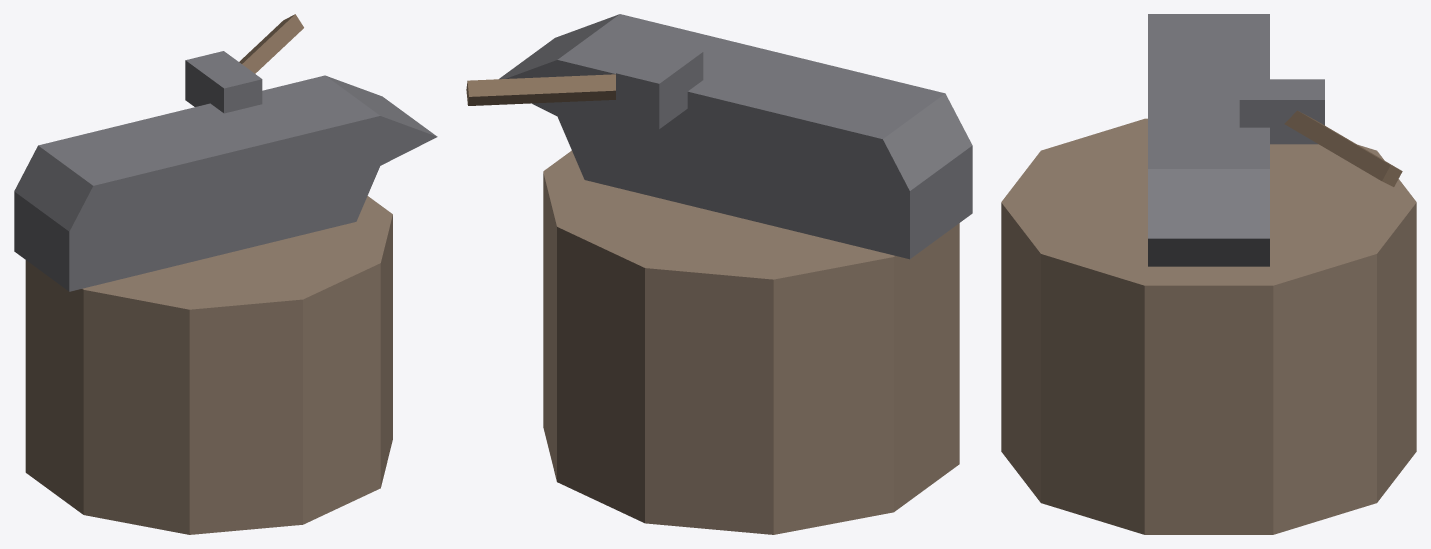
File: anvil.glb
The picture shows the model from 3 angles, left to right: view 1: azimuth 30°, elevation 25°; view 2: azimuth 150°, elevation 25°; view 3: azimuth 270°, elevation 25°; orthographic projection. The views are drawn at different scales.
Parts seen in each view (by area): view 1: anvil; view 2: anvil; view 3: anvil.
Boxes of the visible parts, x1,y1,x2,y2 form: anvil: [14, 14, 437, 534]; anvil: [466, 14, 972, 534]; anvil: [1001, 14, 1416, 534].
Bounding box in the file's own units: 0.77 × 0.7 × 0.68.
